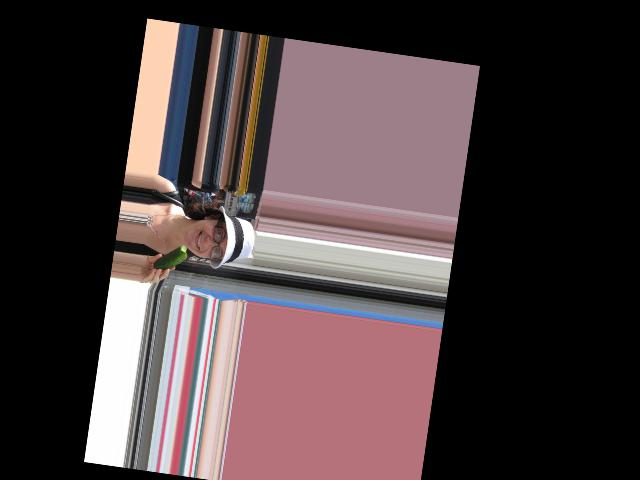cucumber: (152, 241, 188, 274)
